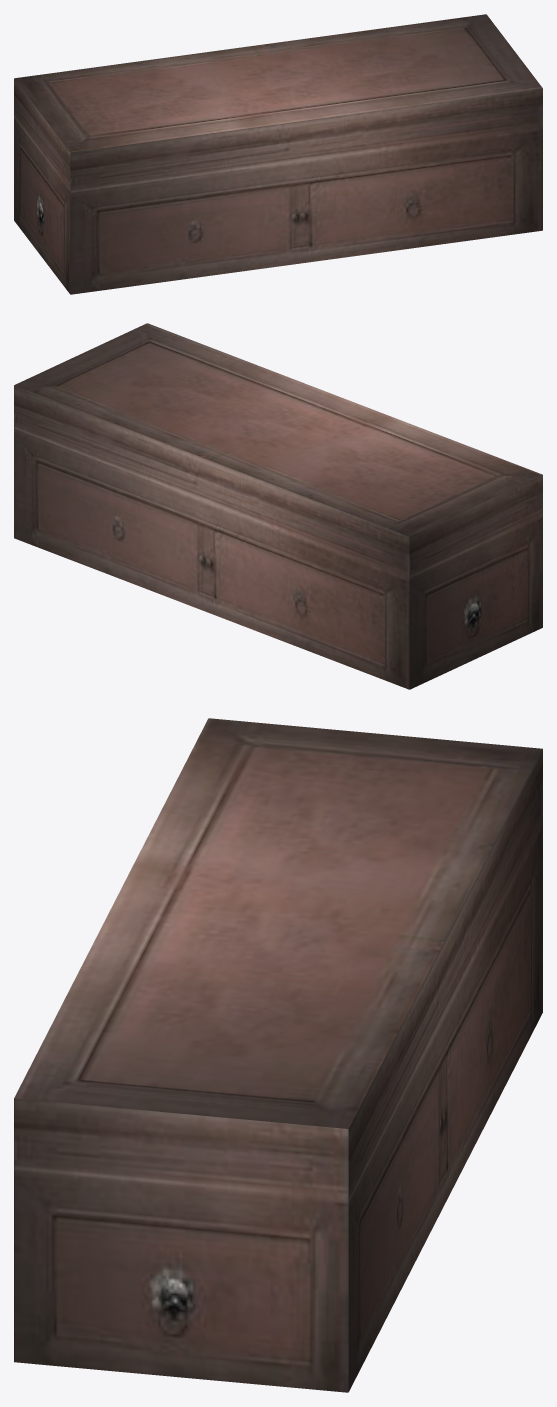
3 views of the same model, one above another, from view 1: azimuth 30°, elevation 25°; view 2: azimuth 150°, elevation 25°; view 3: azimuth 270°, elevation 25° (orthographic). The views are drawn at different scales.
Visible parts, largest first — view 1: Box128; view 2: Box128; view 3: Box128.
Part boxes in pixels (bbox=[...]): Box128: bbox=[14, 14, 542, 294]; Box128: bbox=[14, 323, 542, 689]; Box128: bbox=[14, 718, 542, 1392].
Size of the model in its own units: 40.37 by 12.08 by 21.97.
